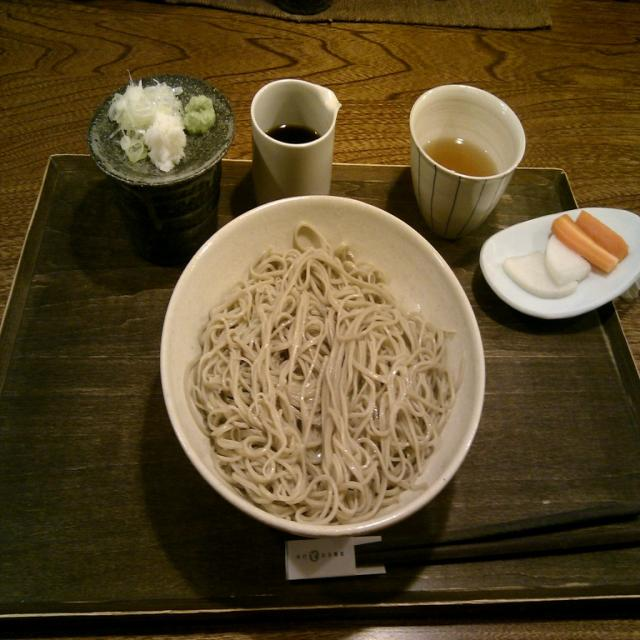Tea: (422, 136, 497, 179), (262, 124, 318, 145)
